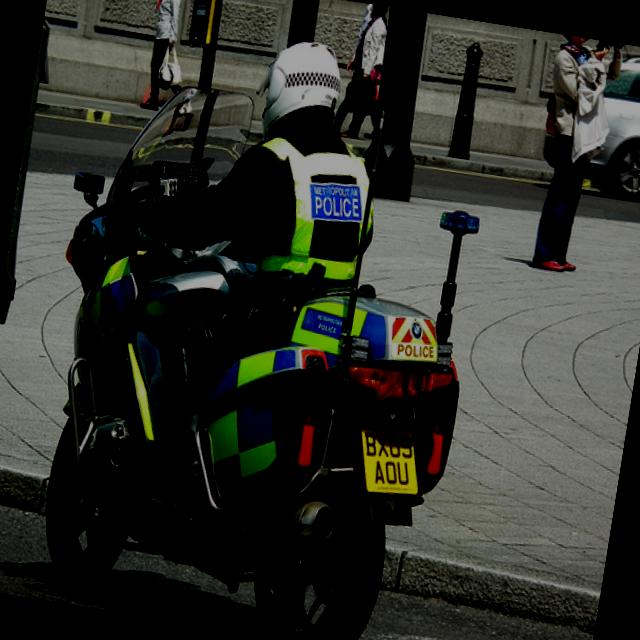Vehicle: (7, 67, 500, 640), (580, 47, 640, 205)
